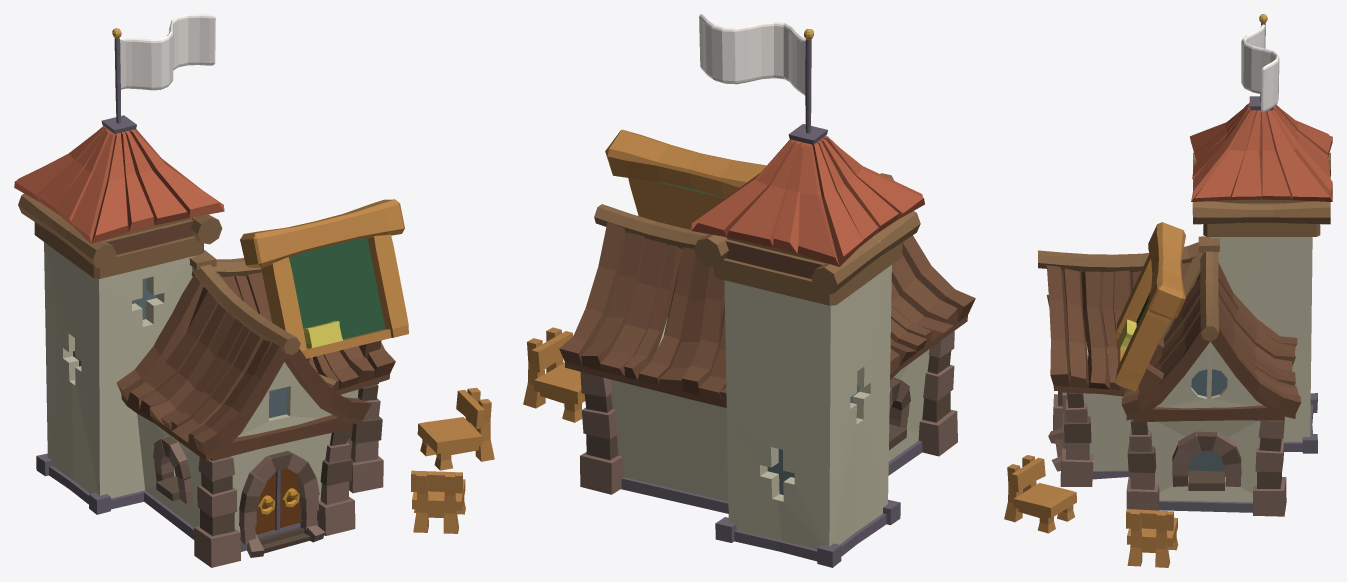
The model's file is 3D_Model_School_tier2.2_LP_v1.fbx.
The picture shows the model from 3 angles, left to right: view 1: azimuth 30°, elevation 25°; view 2: azimuth 150°, elevation 25°; view 3: azimuth 270°, elevation 25°; orthographic projection. The views are drawn at different scales.
Visible parts, largest first — view 1: school.014; view 2: school.014; view 3: school.014.
Part boxes in pixels (bbox=[...]): school.014: bbox=[14, 14, 494, 567]; school.014: bbox=[523, 14, 975, 567]; school.014: bbox=[1004, 14, 1332, 567].
Size of the model in its own units: 580 by 666 by 478.
